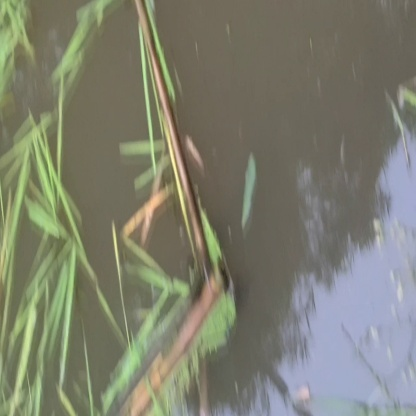branch: (128, 4, 227, 268)
